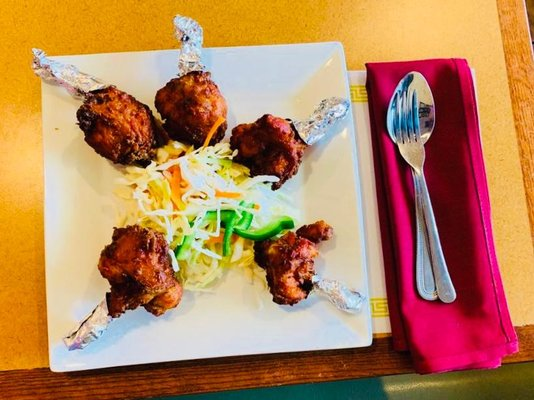burger: (384, 71, 458, 305)
